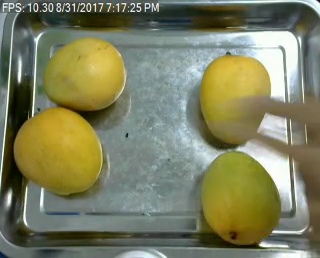Mango: (11, 108, 103, 194), (200, 152, 280, 246), (201, 54, 272, 143), (46, 38, 125, 108)
